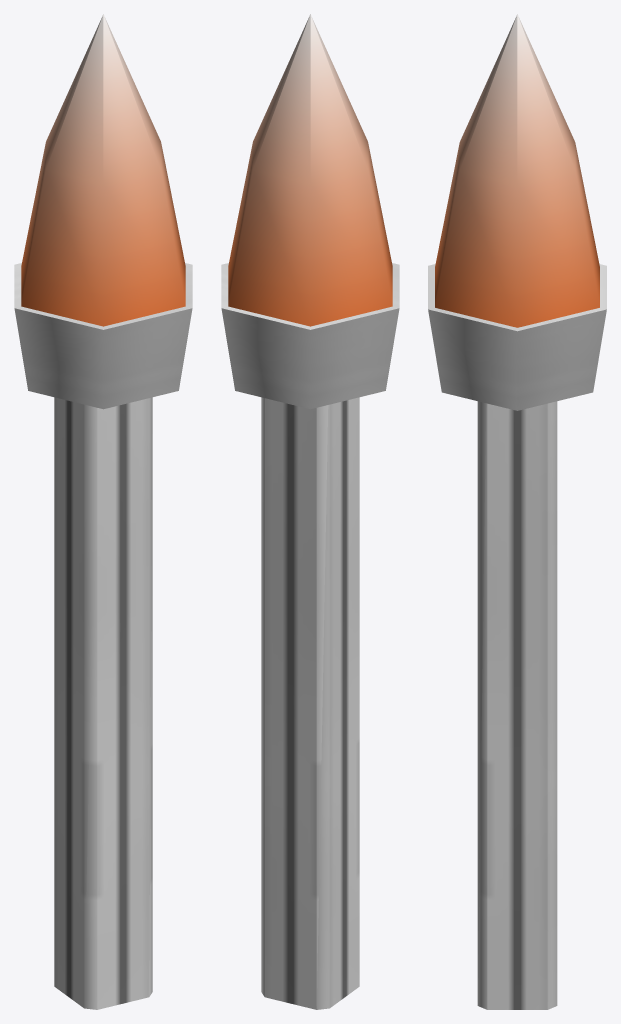
File: torch_lamp.obj
3 views of the same model, side by side, from view 1: azimuth 30°, elevation 25°; view 2: azimuth 150°, elevation 25°; view 3: azimuth 270°, elevation 25° (orthographic).
Parts seen in each view (by area): view 1: wood_support, flame, fuel_cup; view 2: wood_support, flame, fuel_cup; view 3: wood_support, flame, fuel_cup.
Boxes of the visible parts, box(x1,y1,x2,y2) form: wood_support: box(54, 397, 152, 1009); flame: box(21, 14, 185, 326); fuel_cup: box(14, 263, 192, 409); wood_support: box(261, 397, 359, 1009); flame: box(228, 14, 392, 326); fuel_cup: box(221, 263, 399, 409); wood_support: box(477, 401, 557, 1009); flame: box(435, 14, 599, 327); fuel_cup: box(428, 264, 606, 410).
Bounding box in the file's own units: 0.26 × 1.36 × 0.2252.
